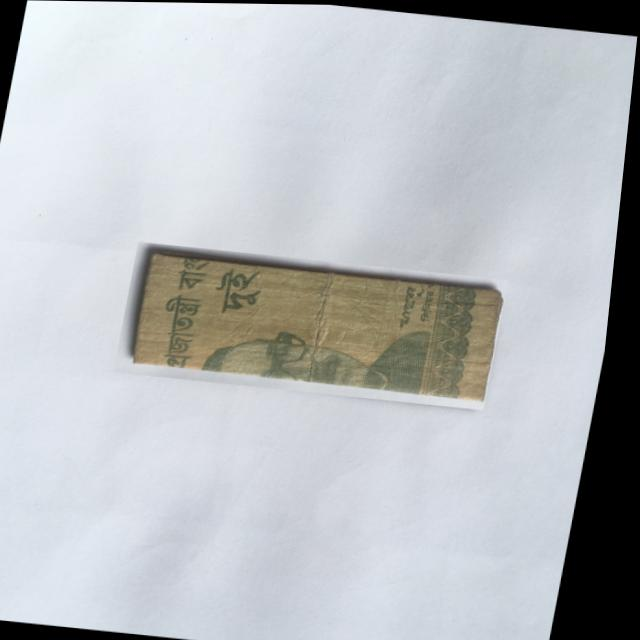Taka: (118, 241, 516, 408)
